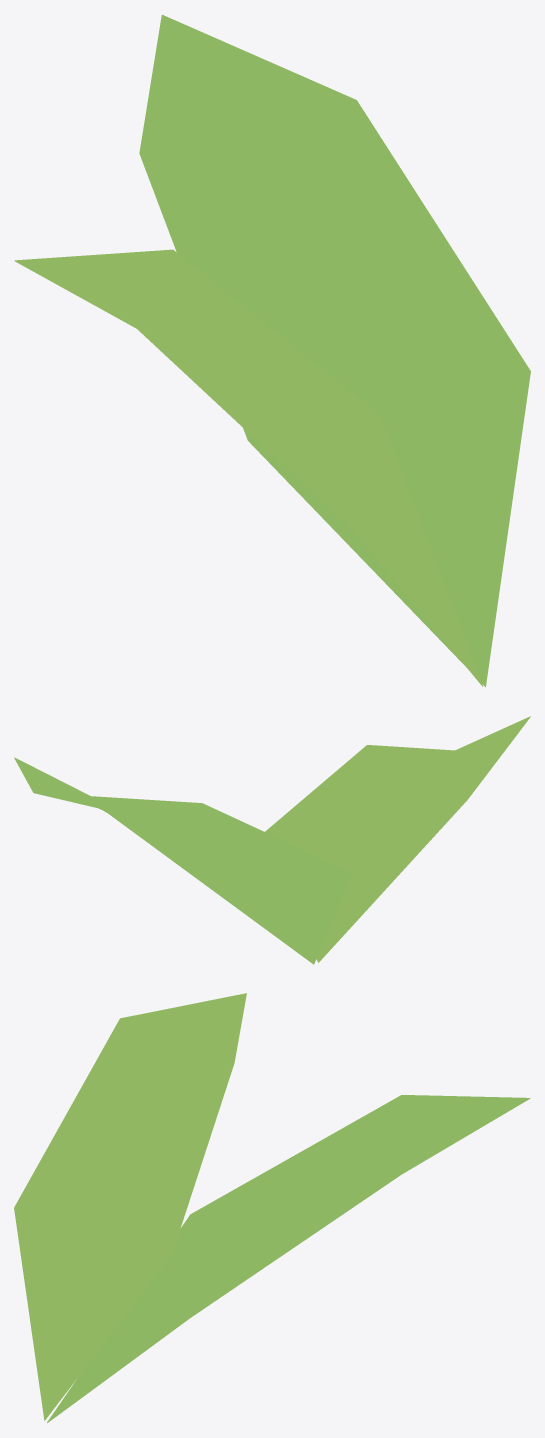
File: Plant_k_TwoS_01.fbx
3 views of the same model, one above another, from view 1: azimuth 30°, elevation 25°; view 2: azimuth 150°, elevation 25°; view 3: azimuth 270°, elevation 25° (orthographic). The views are drawn at different scales.
Visible parts, largest first — view 1: Plant_k_TwoS_01; view 2: Plant_k_TwoS_01; view 3: Plant_k_TwoS_01.
Boxes of the visible parts, x1,y1,x2,y2 form: Plant_k_TwoS_01: (14, 14, 530, 686); Plant_k_TwoS_01: (14, 716, 530, 964); Plant_k_TwoS_01: (14, 993, 530, 1423).
Size of the model in its own units: 0.1712 by 0.1488 by 0.2139.
